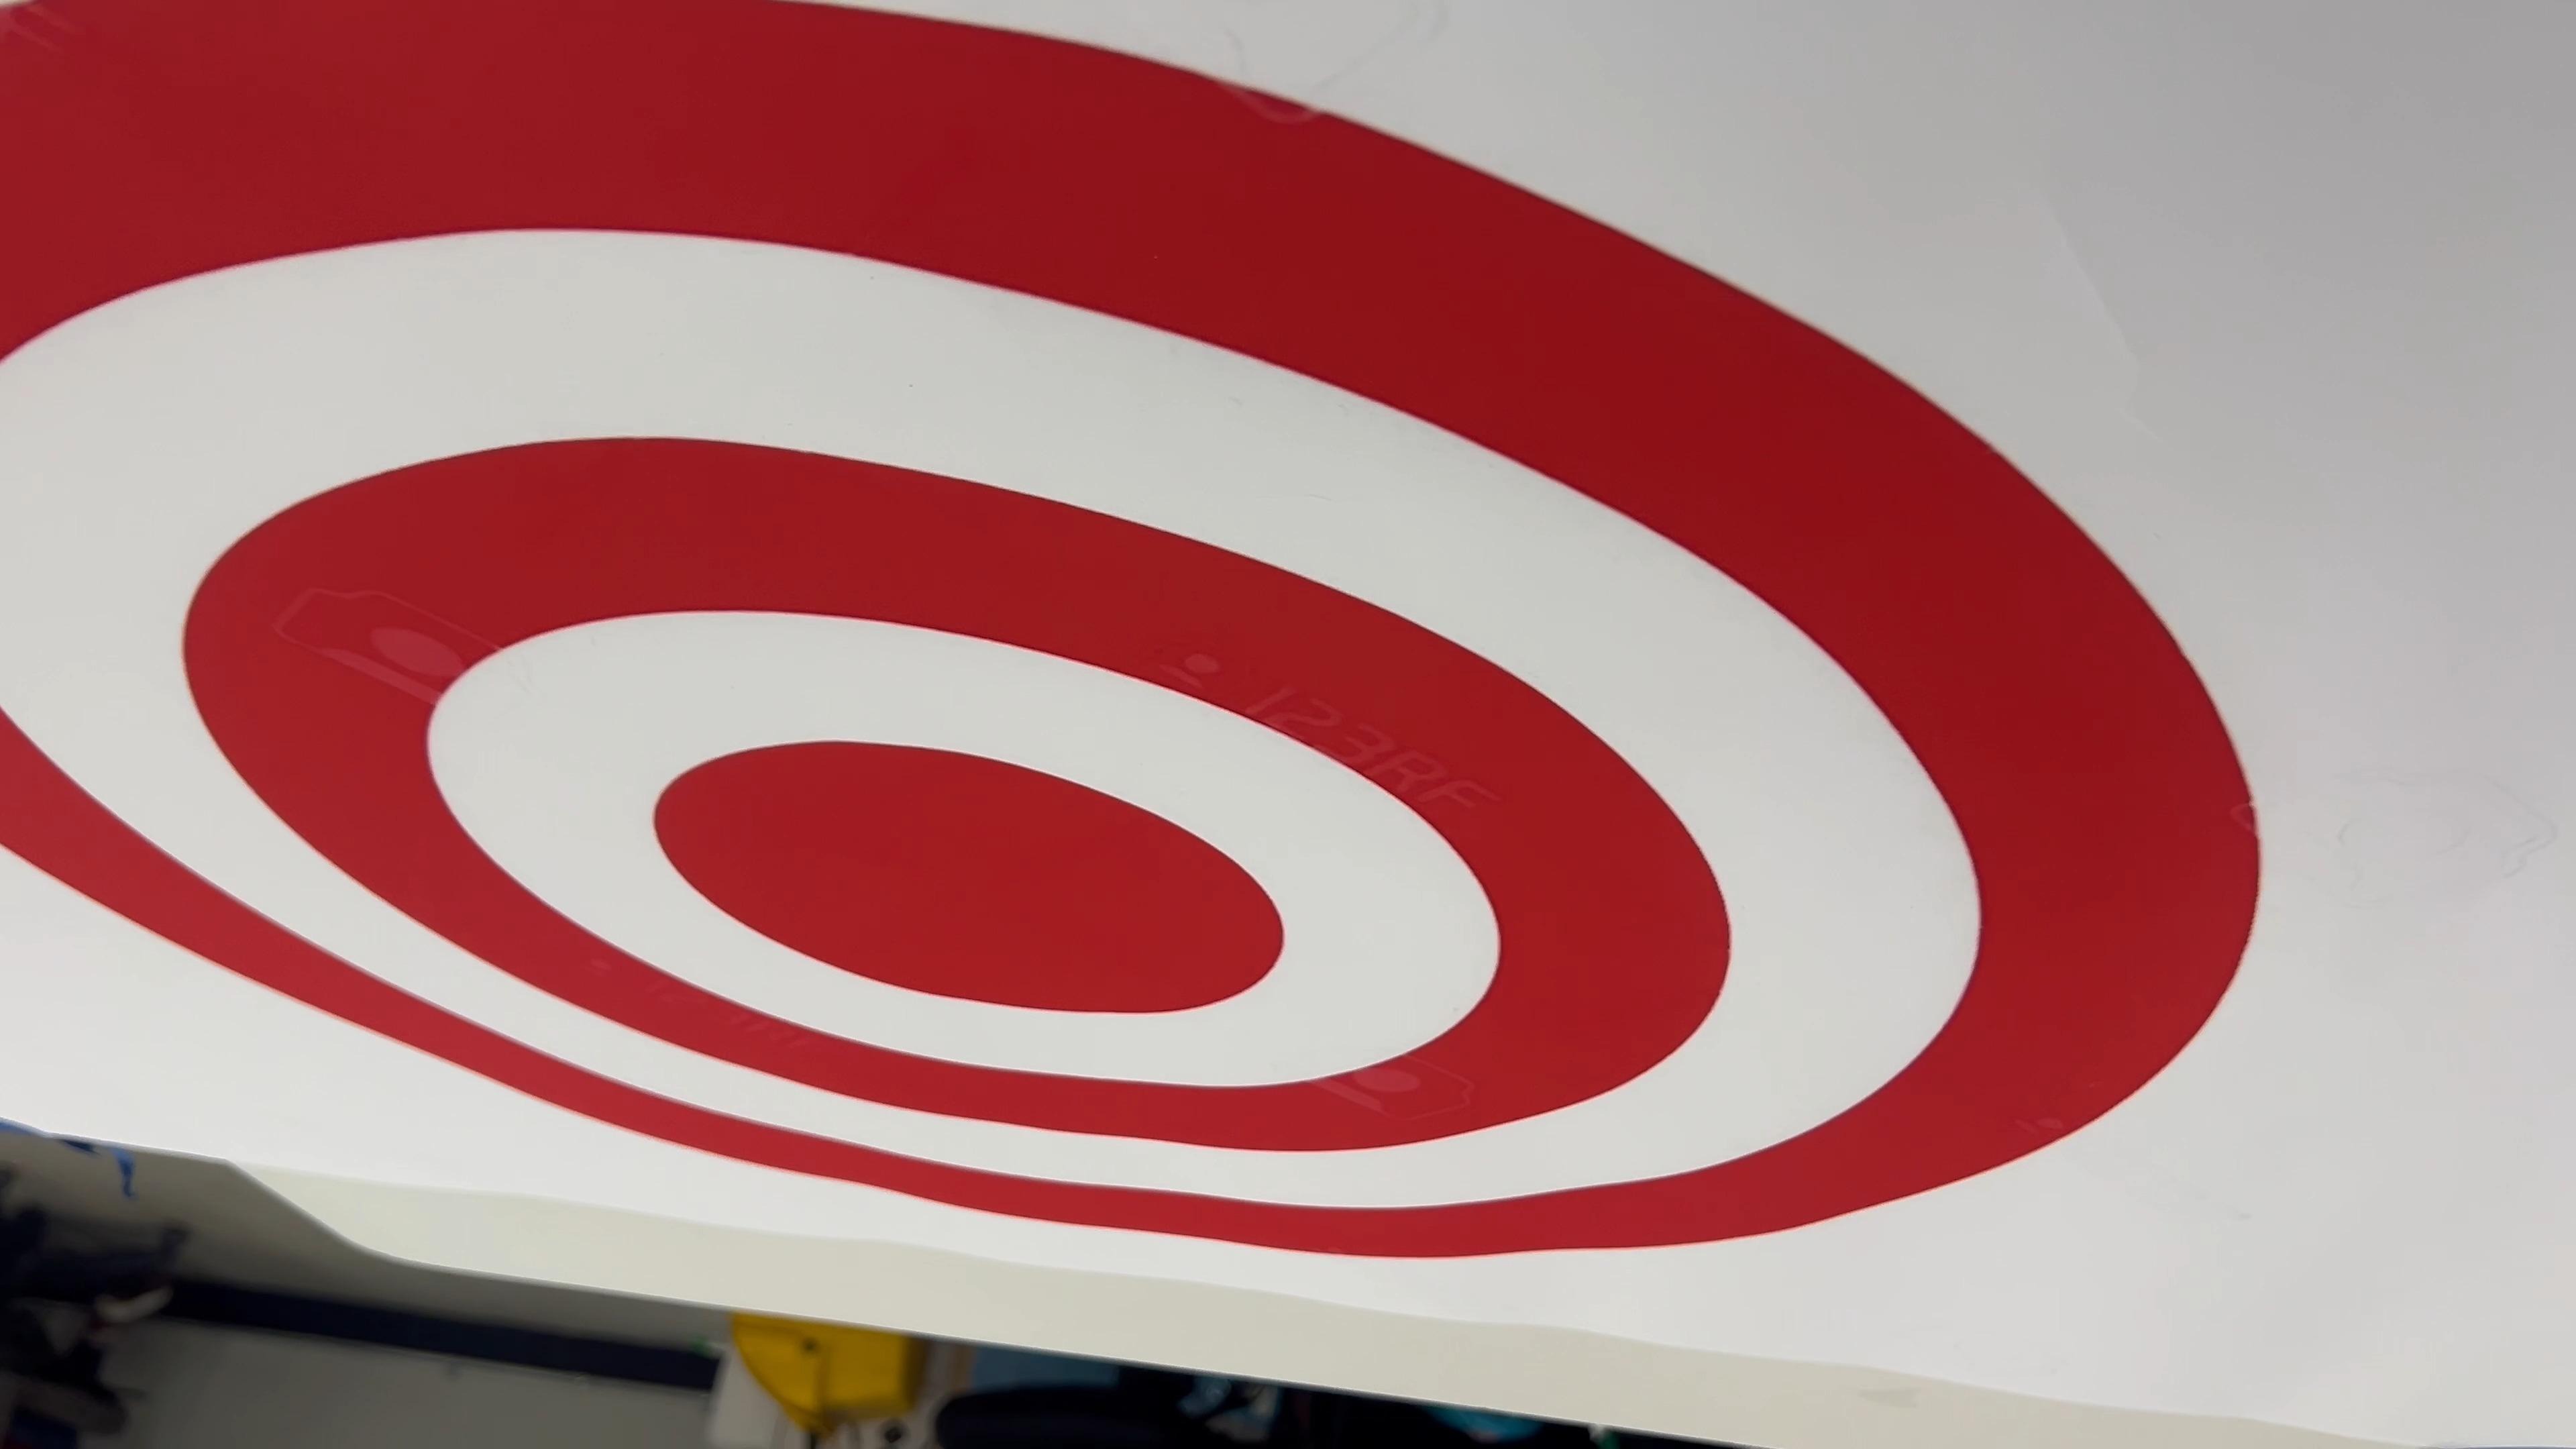target_red: (0, 0, 2295, 1357)
